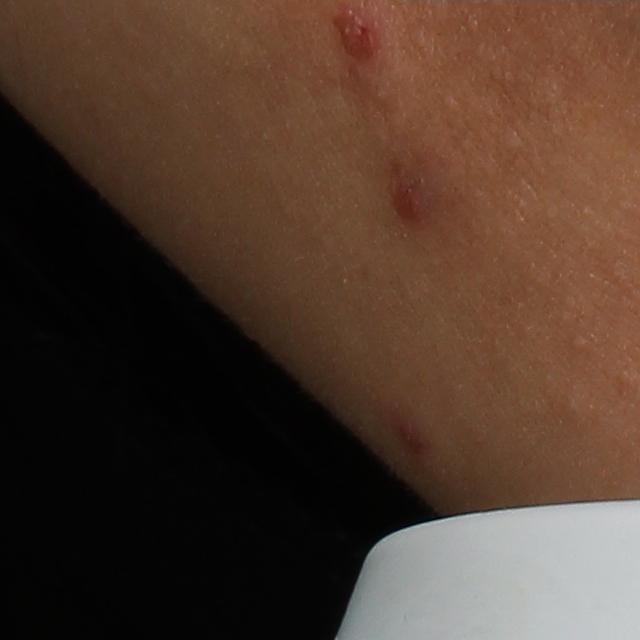comedo: (569, 332, 589, 354)
papule: (331, 2, 380, 67), (387, 407, 429, 456), (387, 179, 426, 227)
